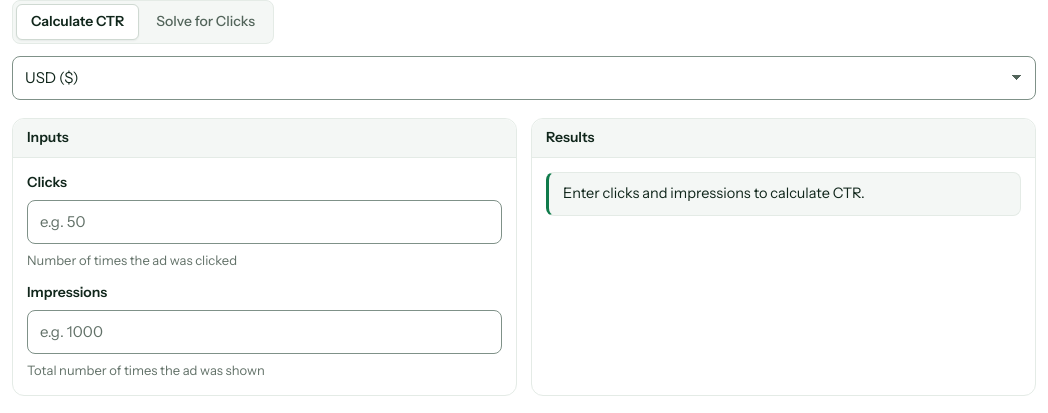
it: CtrCalculator › solve mode: shows error for invalid CTR (0%)
Click the tab "Solve for Clicks" at (206, 22), box [141,4,270,40]
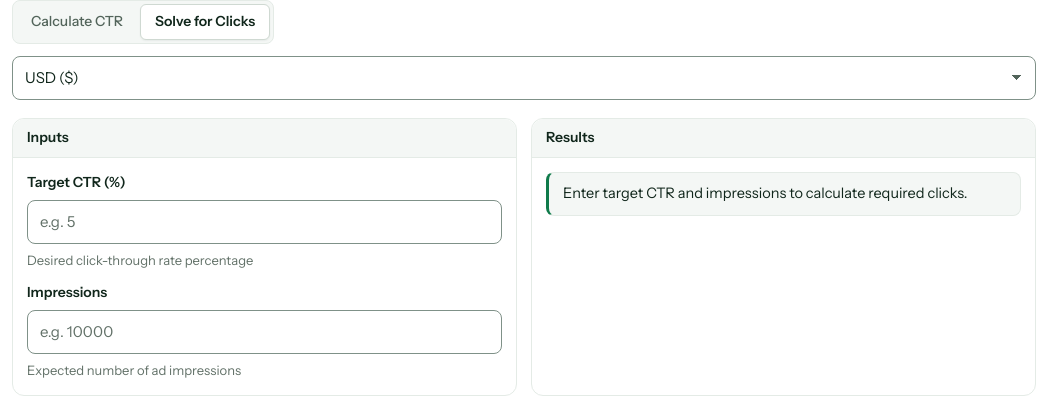
Type "0" into the number field with placeholder "e.g. 5" at (264, 222), box [27,200,502,244]
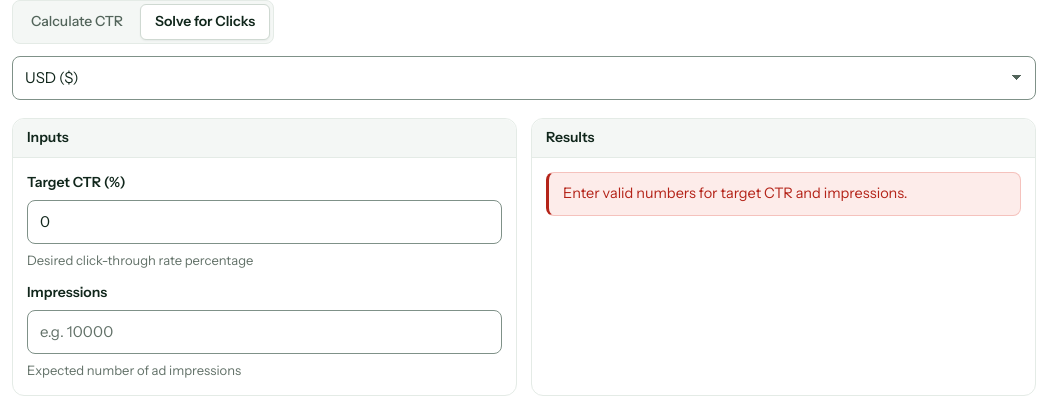
Type "10000" into the number field with placeholder "e.g. 10000" at (264, 332), box [27,310,502,354]
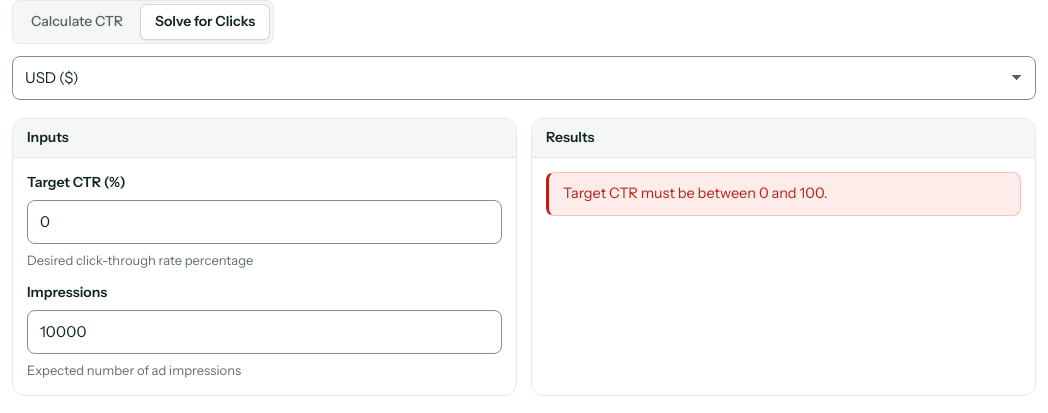
Expected: the text "Target CTR must be between 0 and 100." is shown, [546,172,1021,216]
